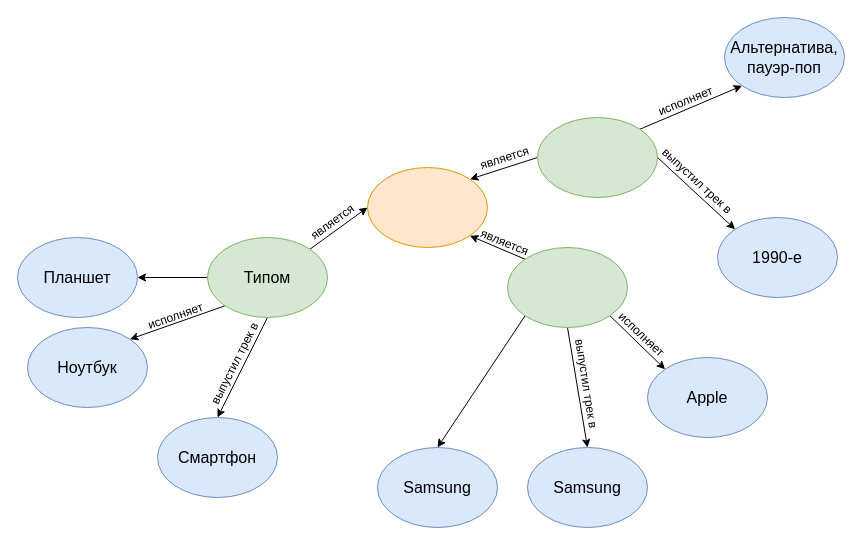
This 862x545 diagram has some shape labels left out. The centre of each missing label's shape, as x and y in pixels:
Брендом: [567,287]
Гаджет: [427,207]
Ценовой категорией: [597,157]
